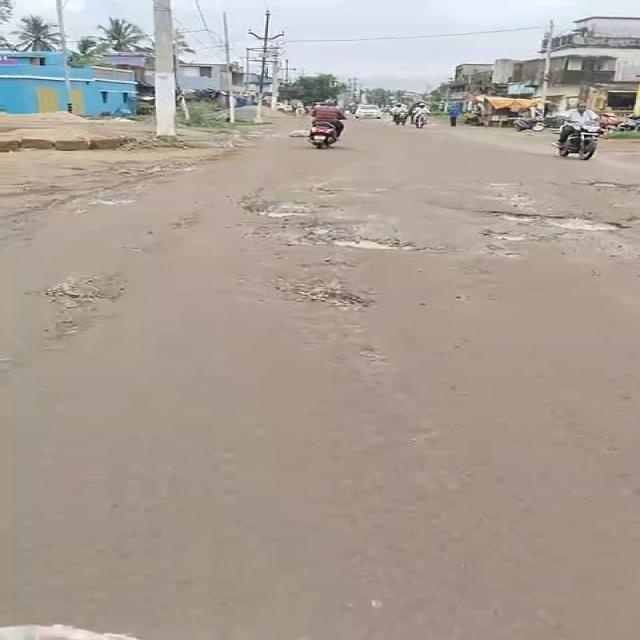pothole: (316, 235, 431, 260), (483, 212, 631, 230), (263, 288, 382, 310), (38, 287, 123, 316), (285, 221, 368, 237), (477, 226, 553, 243), (236, 196, 322, 210), (42, 319, 112, 336), (292, 260, 364, 274), (246, 207, 314, 221), (73, 194, 140, 208), (285, 277, 355, 289), (483, 244, 523, 262), (574, 179, 632, 191), (353, 344, 394, 360), (482, 178, 525, 190), (302, 185, 363, 193), (473, 192, 534, 200), (370, 187, 396, 193)
